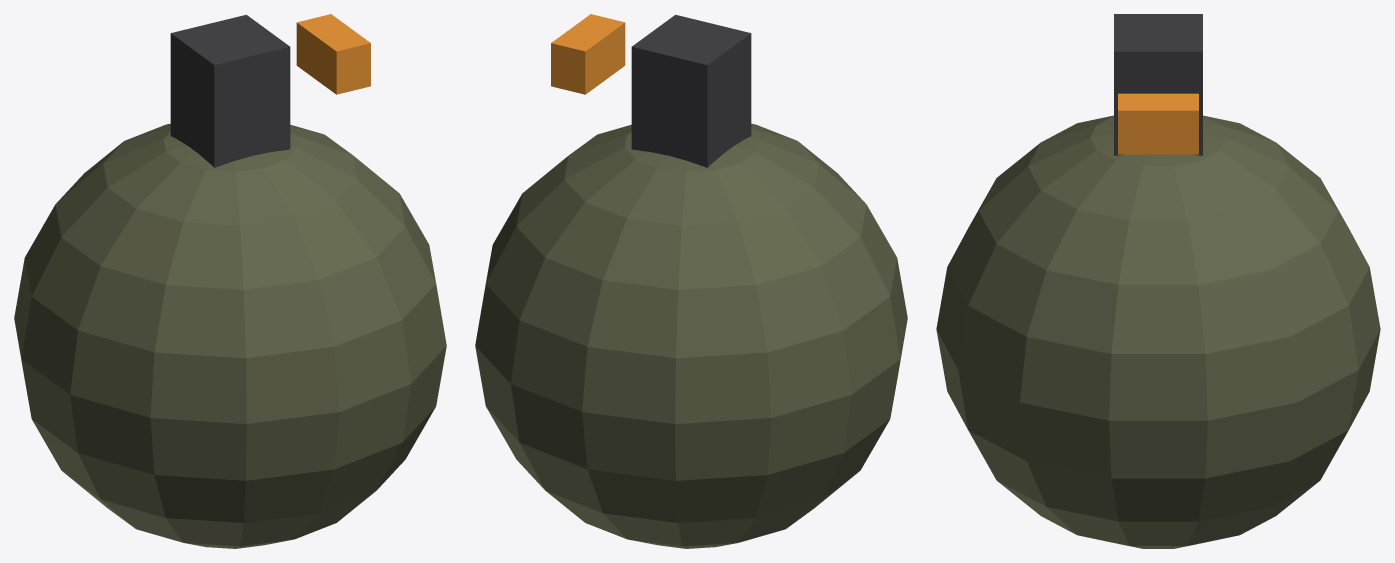
The model's file is SM_Wpn_Grenade.fbx.
3 views of the same model, side by side, from view 1: azimuth 30°, elevation 25°; view 2: azimuth 150°, elevation 25°; view 3: azimuth 270°, elevation 25° (orthographic).
Parts seen in each view (by area): view 1: SM_Wpn_Grenade; view 2: SM_Wpn_Grenade; view 3: SM_Wpn_Grenade.
Boxes of the visible parts, bbox=[...] form: SM_Wpn_Grenade: bbox=[14, 14, 446, 548]; SM_Wpn_Grenade: bbox=[475, 14, 907, 548]; SM_Wpn_Grenade: bbox=[936, 14, 1380, 548].
Size of the model in its own units: 10.72 by 11 by 13.6.
